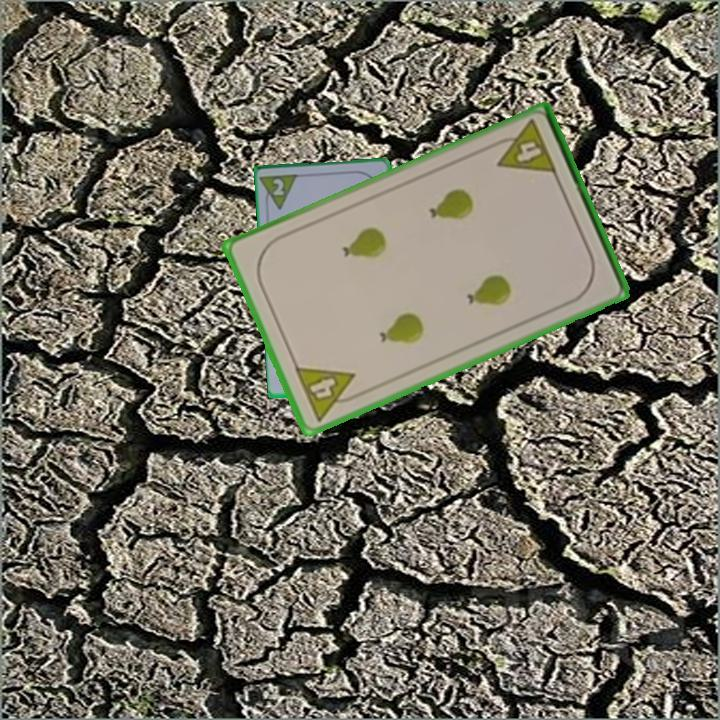2p: (270, 175, 287, 199)
4p: (291, 363, 366, 424), (487, 116, 560, 178)
